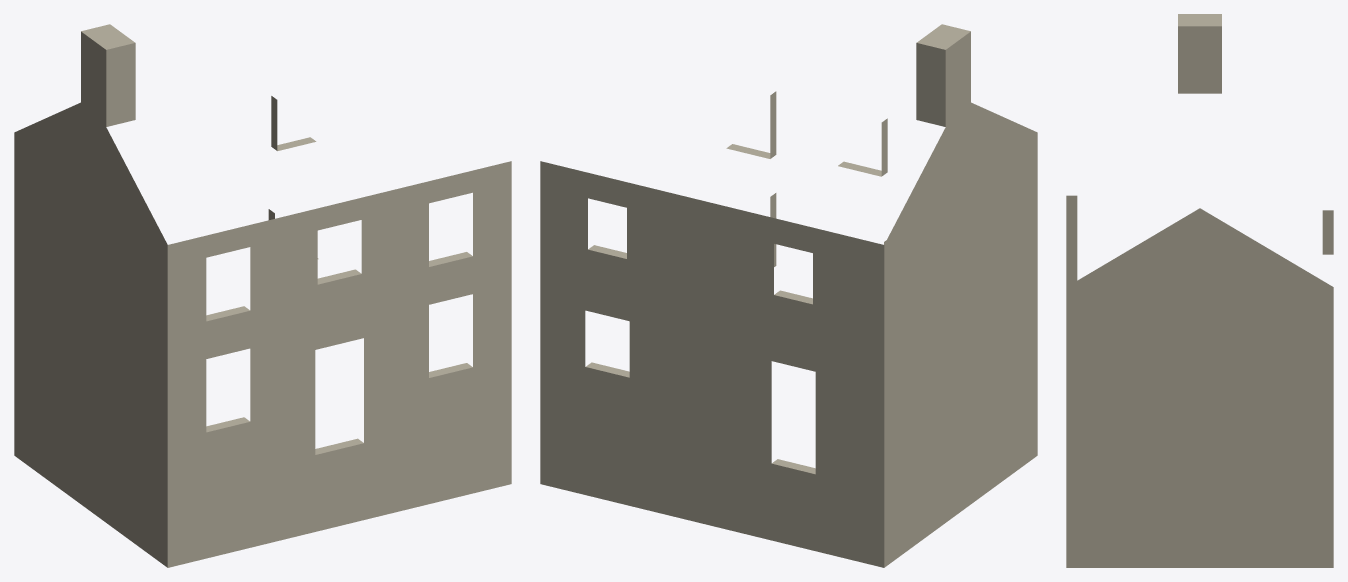
Rendered from SM_Bld_014_Render.glb.
3 renders of one model, left to right at view 1: azimuth 30°, elevation 25°; view 2: azimuth 150°, elevation 25°; view 3: azimuth 270°, elevation 25°, orthographic. The views are drawn at different scales.
Parts seen in each view (by area): view 1: SM_Bld_014_Render; view 2: SM_Bld_014_Render; view 3: SM_Bld_014_Render.
Part boxes in pixels (x1,y1,x2,y2): SM_Bld_014_Render: (14,24,511,567); SM_Bld_014_Render: (540,24,1037,567); SM_Bld_014_Render: (1066,14,1333,567).
Bounding box in the file's own units: 7.02 × 9.18 × 5.43.
